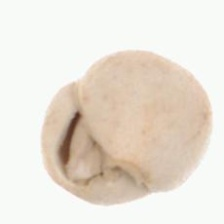L3: (51, 110, 132, 188)
L4: (41, 50, 214, 206)
